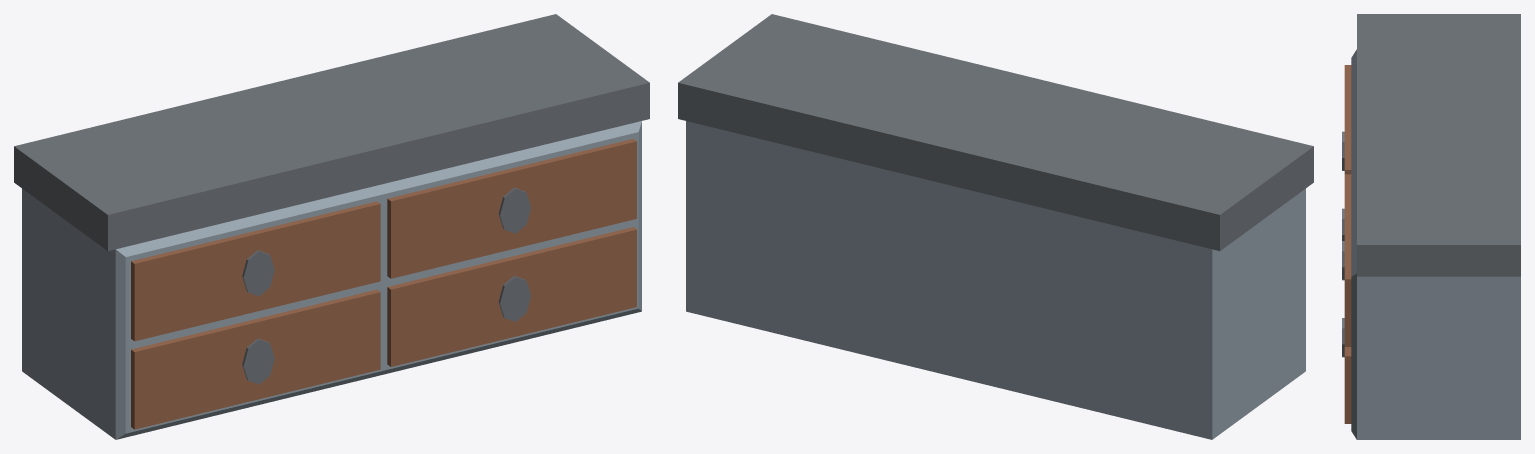
Rendered from Temp_Drawers.fbx.
3 views of the same model, side by side, from view 1: azimuth 30°, elevation 25°; view 2: azimuth 150°, elevation 25°; view 3: azimuth 270°, elevation 25° (orthographic). The views are drawn at different scales.
Parts seen in each view (by area): view 1: pCube4; view 2: pCube4; view 3: pCube4.
Boxes of the visible parts, x1,y1,x2,y2 form: pCube4: [14, 14, 649, 439]; pCube4: [678, 14, 1313, 439]; pCube4: [1342, 14, 1520, 439].
Bounding box in the file's own units: 2 × 0.8 × 0.6545.
